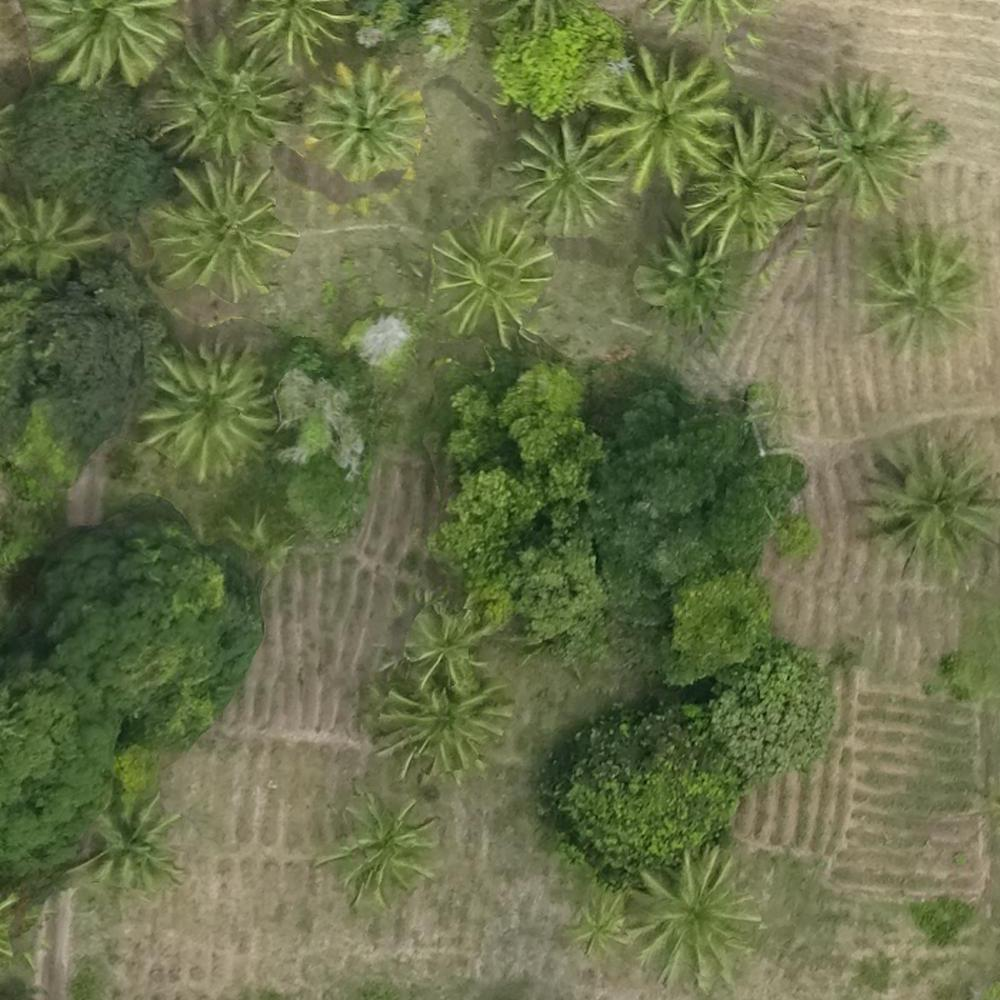Palm: (593, 48, 729, 182), (682, 117, 808, 242), (154, 163, 281, 285), (143, 346, 268, 468), (431, 207, 550, 334), (632, 857, 754, 978), (800, 83, 919, 206), (877, 446, 992, 569), (163, 41, 288, 154), (28, 1, 177, 90), (375, 675, 502, 776), (864, 233, 971, 350), (311, 63, 417, 172), (321, 806, 438, 902), (511, 121, 615, 226), (637, 232, 745, 333), (79, 805, 174, 895), (1, 192, 104, 271), (403, 609, 486, 681), (566, 891, 624, 950)
